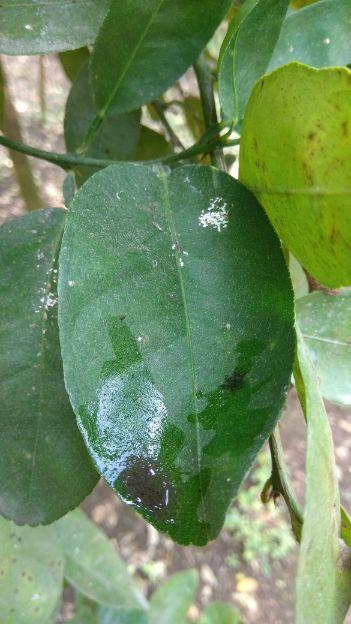Myzus persicae: (199, 198, 227, 231), (46, 293, 57, 308)
